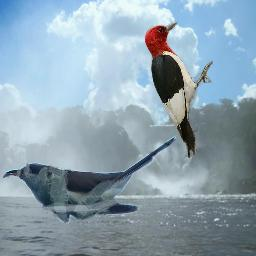Cuckoo: (3, 135, 182, 224)
Woodpecker: (143, 20, 213, 158)
